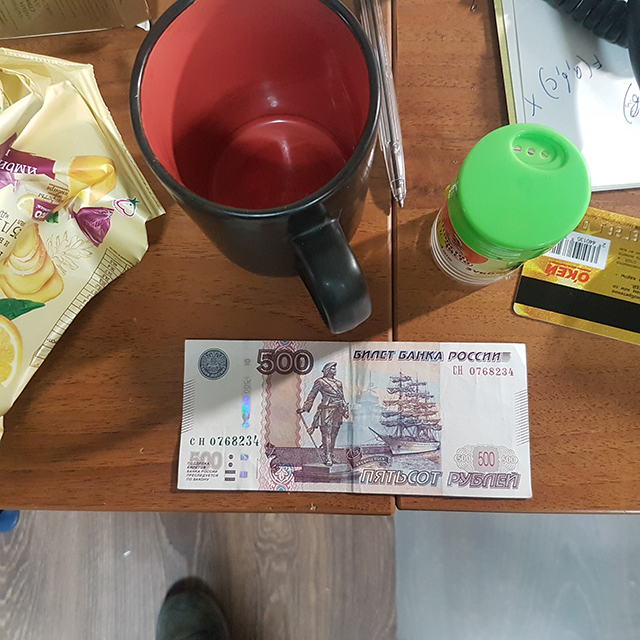banknotes: (176, 338, 536, 500)
